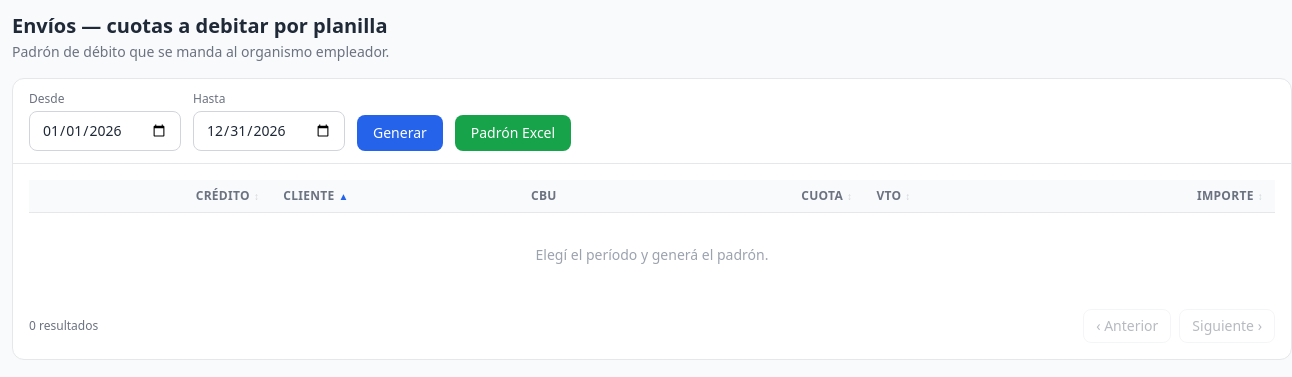
Test case: Envíos — padrón de débito › genera el padrón del período elegido
The width and height of the screenshot is (1292, 377).
Check: the date field labelled "Hasta" holds "2026-12-31", box [193, 111, 345, 151]
Type "2026-03-01" into the date field labelled "Desde". click: (105, 131)
box: [29, 111, 181, 151]
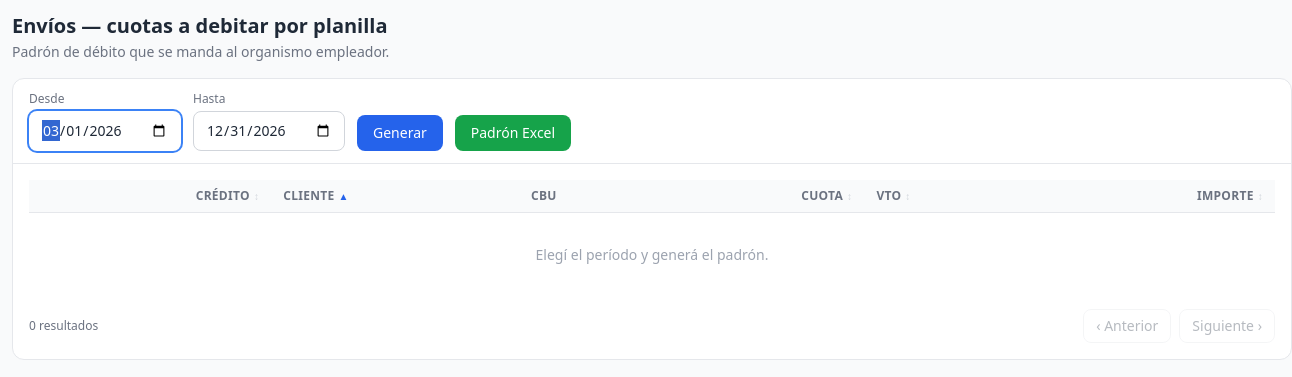
Type "2026-03-31" into the date field labelled "Hasta". click: (269, 131)
box: [193, 111, 345, 151]
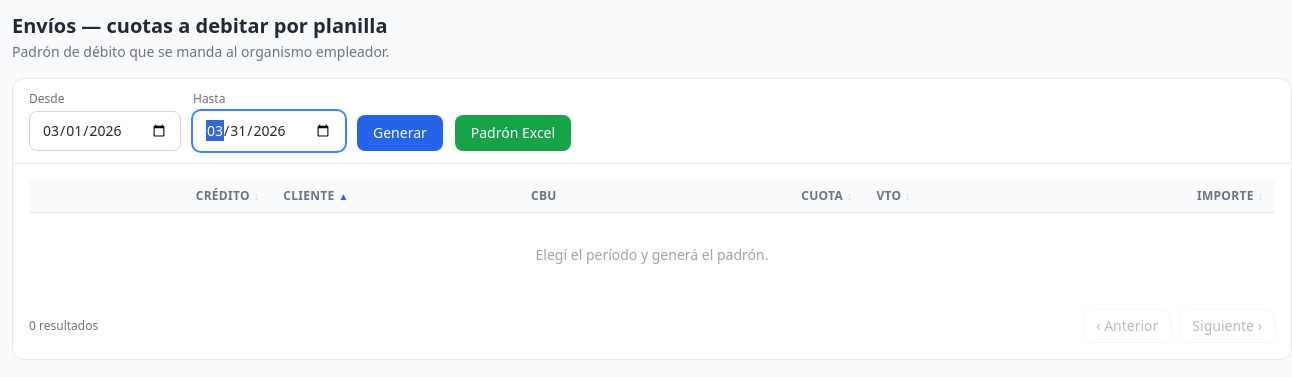
Click the button "Generar". click: click(400, 133)
box: [357, 115, 443, 151]
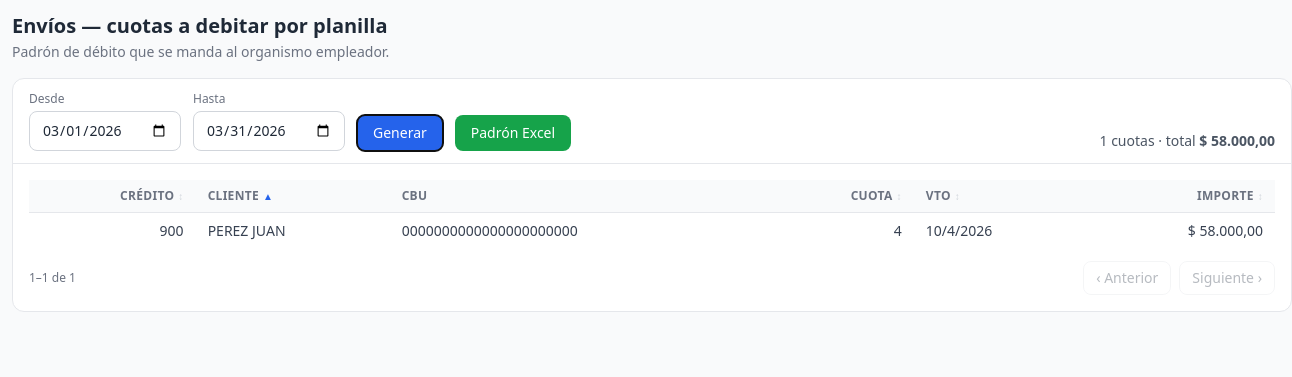
Check: the text "PEREZ JUAN" is shown, box [196, 212, 390, 249]
Check: the text "1 cuotas · total $ 58.000,00" is shown, box [1100, 131, 1275, 151]
